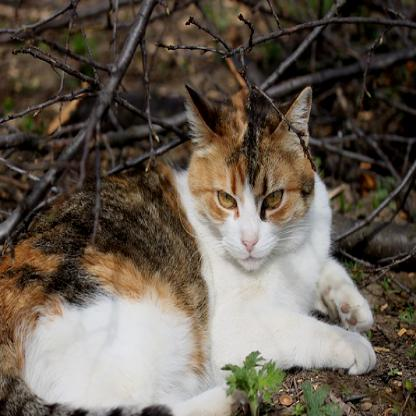cat: (0, 82, 378, 415)
